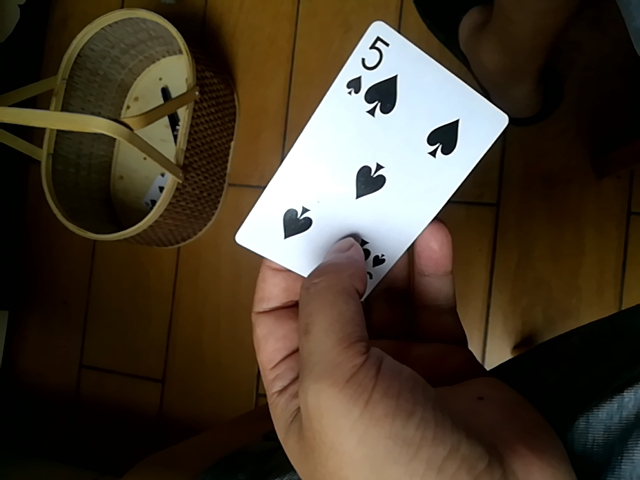ht 5: (235, 19, 507, 293)
